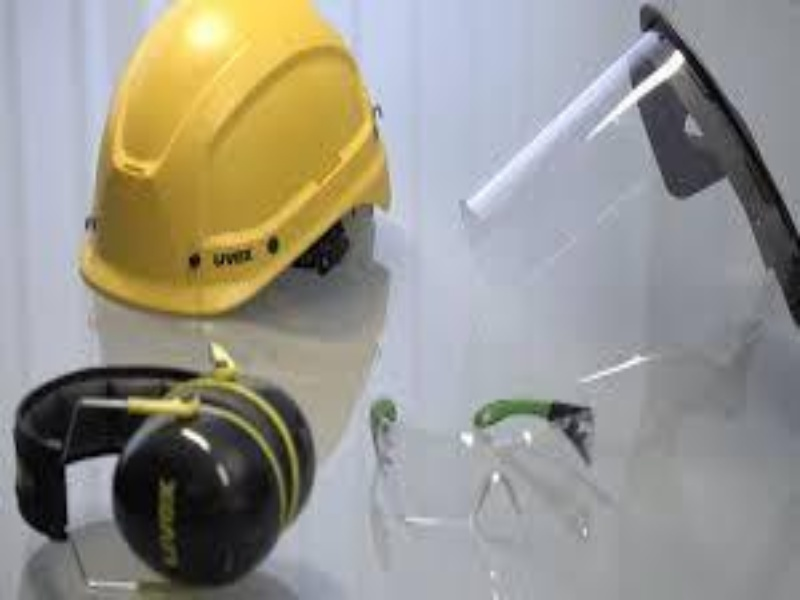helmet: (79, 1, 391, 315)
